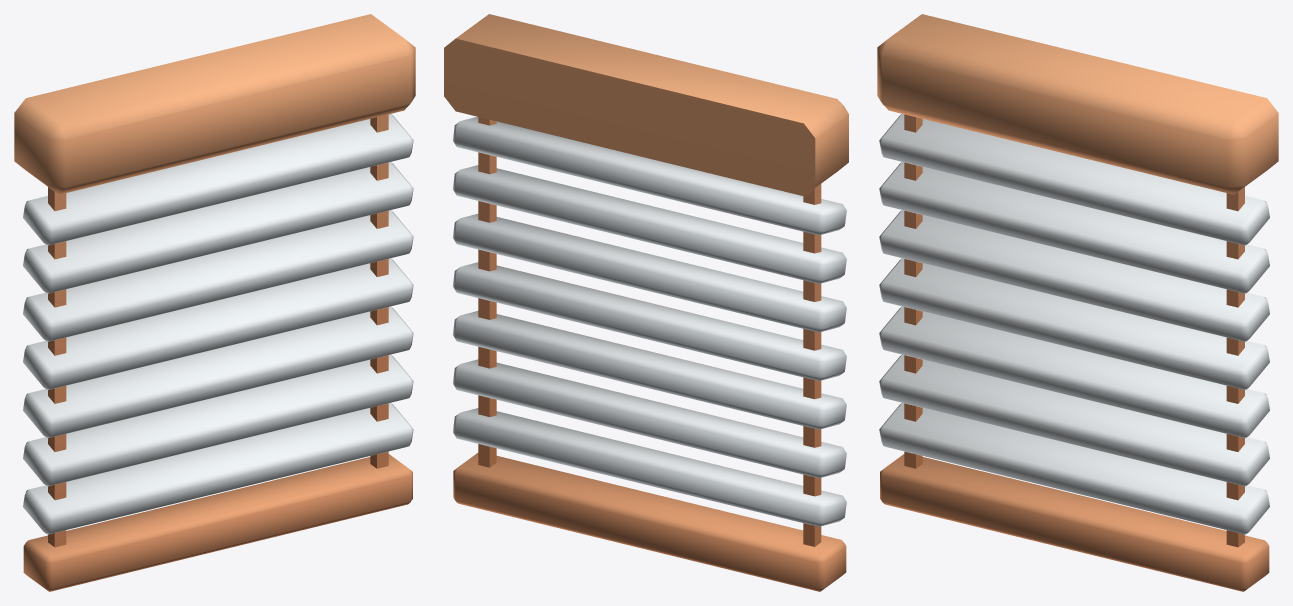
Rendered from Kitchen Blinds.glb.
The picture shows the model from 3 angles, left to right: view 1: azimuth 30°, elevation 25°; view 2: azimuth 150°, elevation 25°; view 3: azimuth 330°, elevation 25°; orthographic projection.
Visible parts, largest first — view 1: blinds_kitchen; view 2: blinds_kitchen; view 3: blinds_kitchen.
Boxes of the visible parts, bbox=[...] form: blinds_kitchen: bbox=[14, 14, 415, 591]; blinds_kitchen: bbox=[444, 14, 848, 591]; blinds_kitchen: bbox=[877, 14, 1278, 591].
Size of the model in its own units: 1.6 by 1.95 by 0.3.
1 material, 1 textured.
